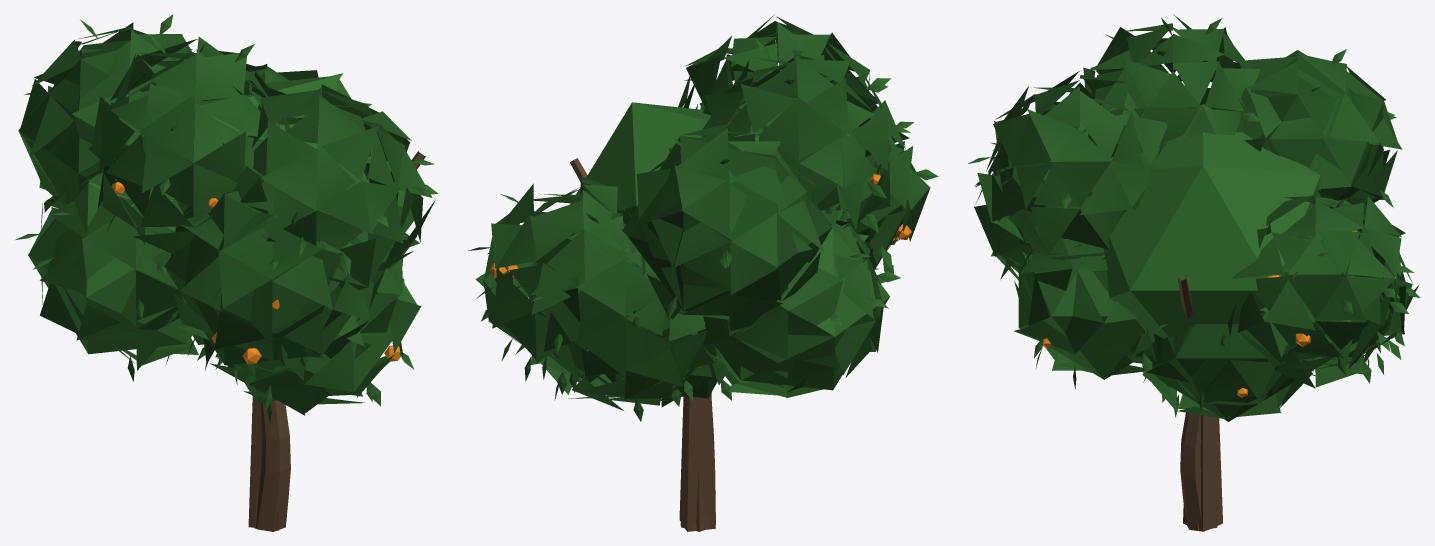
Rendered from citrus.glb.
3 renders of one model, left to right at view 1: azimuth 30°, elevation 25°; view 2: azimuth 150°, elevation 25°; view 3: azimuth 270°, elevation 25°, orthographic. The views are drawn at different scales.
Parts seen in each view (by area): view 1: leaves (×3), trunk, fruit; view 2: leaves (×3), trunk; view 3: leaves (×3), trunk.
Boxes of the visible parts, box(x1,y1,x2,y2) form: leaves (×3): box(14, 14, 438, 530); trunk: box(256, 151, 425, 531); fruit: box(212, 299, 400, 364); leaves (×3): box(468, 14, 938, 531); trunk: box(570, 158, 715, 529); leaves (×3): box(968, 14, 1420, 531); trunk: box(1177, 275, 1217, 531).
Size of the model in its own units: 0.7641 by 1 by 0.8724.
